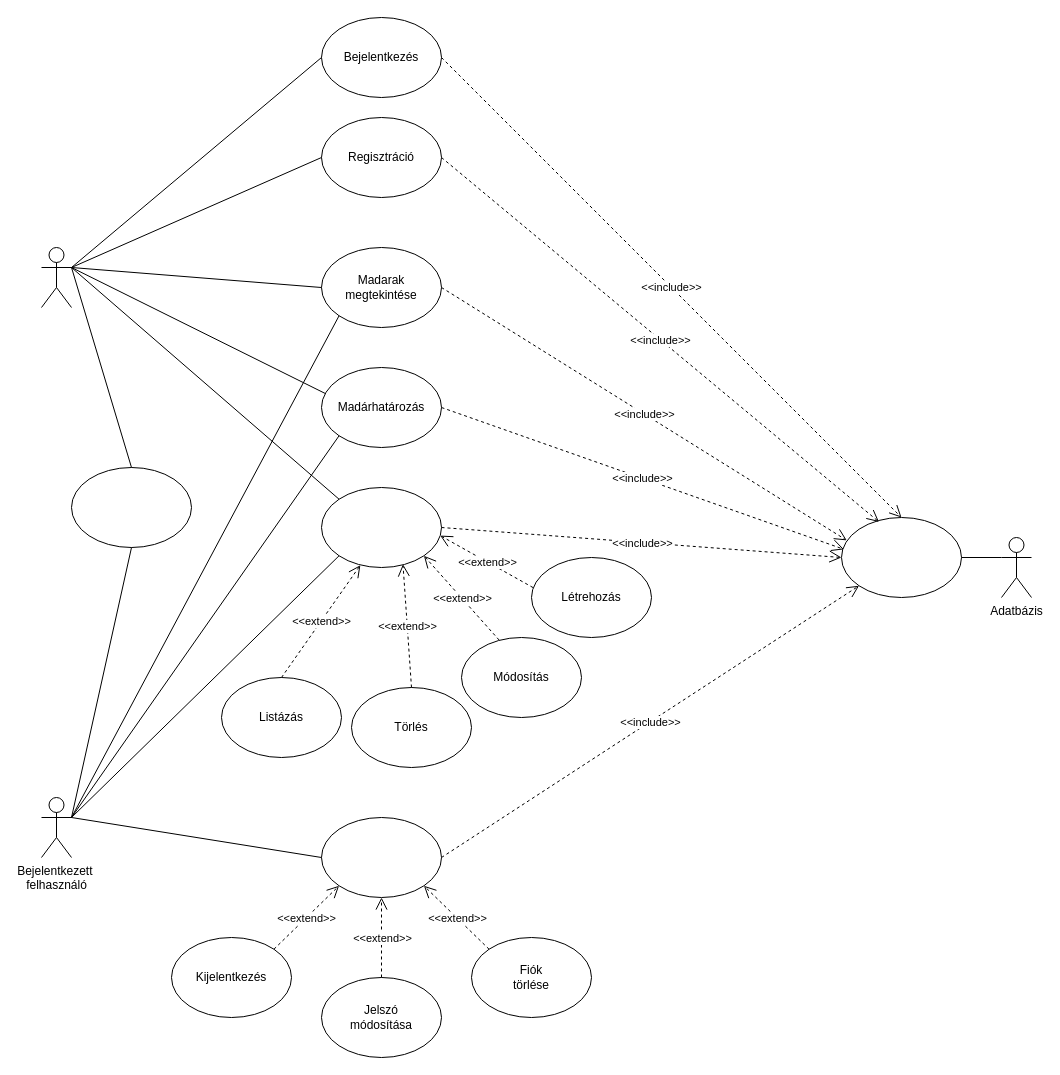
The diagram is 1060 pixels wide and 1075 high, and some of its shapes have lost their labels. Each missing label, with the centre of its shape:
"Adatkezelés" goes at [901,557].
"Beállítások módosítása" goes at [131,507].
"Felhasználói fiókadatok megtekintése" goes at [381,857].
"Látogató" goes at [56,277].
"Megfigyelések kezelése" goes at [381,527].
